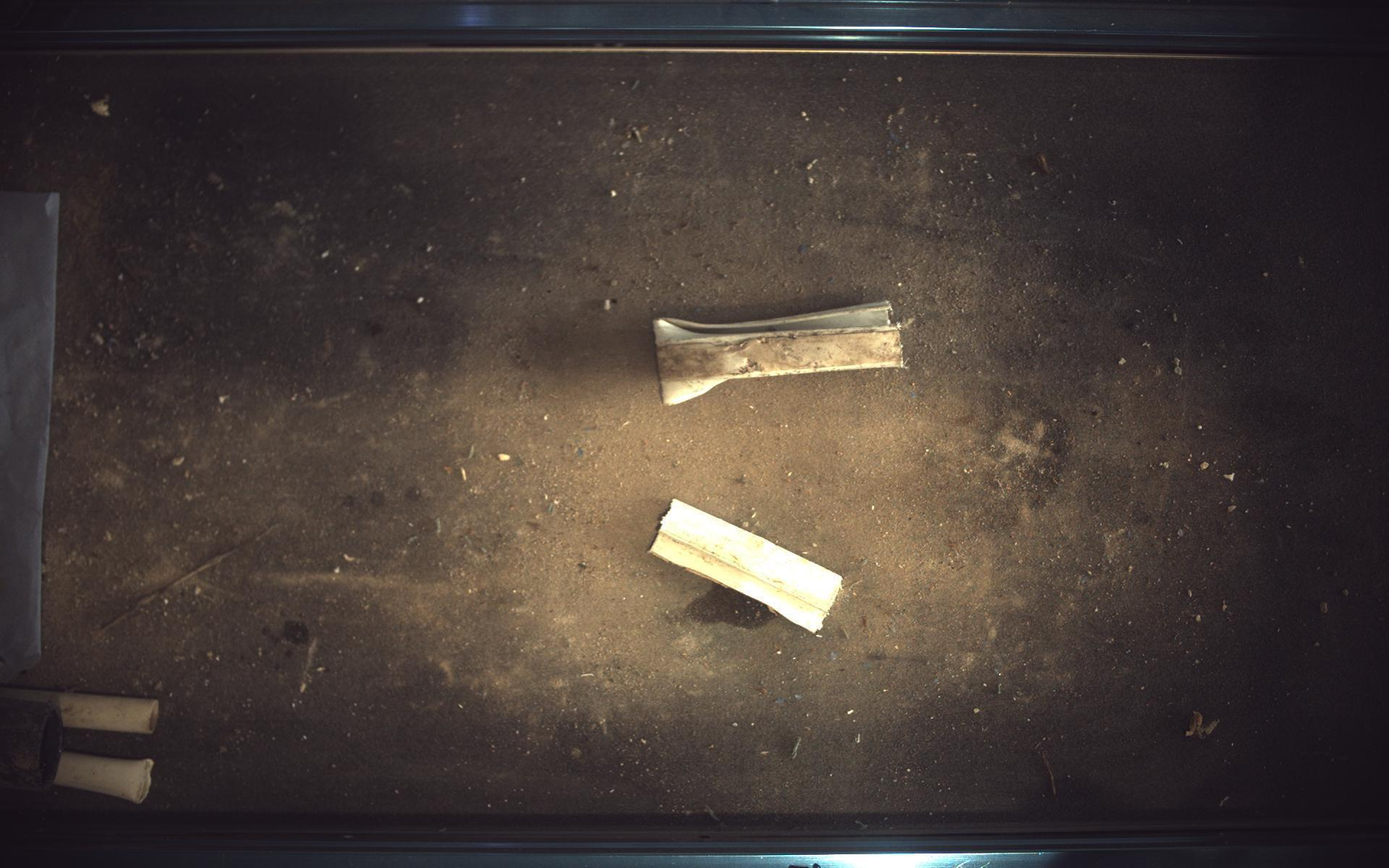plastic: (654, 300, 905, 404), (650, 500, 843, 633)
